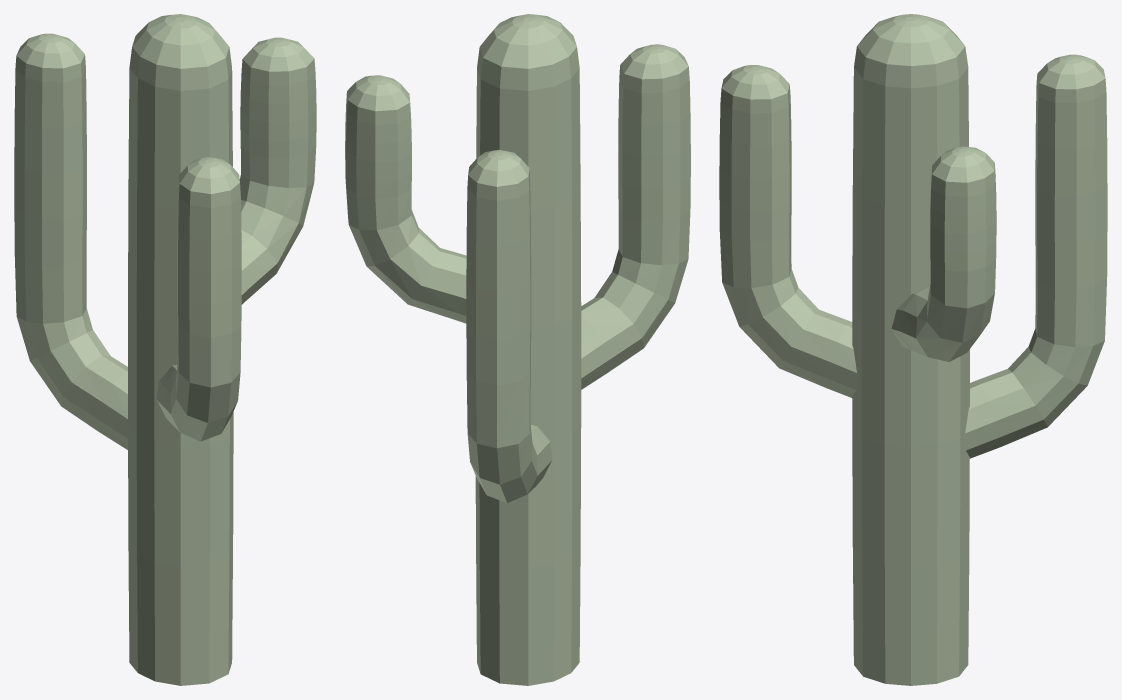
Rendered from SM_Desert_Saguaro_B.glb.
3 views of the same model, side by side, from view 1: azimuth 30°, elevation 25°; view 2: azimuth 150°, elevation 25°; view 3: azimuth 270°, elevation 25° (orthographic).
Parts seen in each view (by area): view 1: SM_Desert_Saguaro_B; view 2: SM_Desert_Saguaro_B; view 3: SM_Desert_Saguaro_B.
Boxes of the visible parts, bbox=[...] form: SM_Desert_Saguaro_B: bbox=[14, 14, 316, 685]; SM_Desert_Saguaro_B: bbox=[345, 14, 690, 685]; SM_Desert_Saguaro_B: bbox=[719, 14, 1107, 685].
Size of the model in its own units: 1.07 by 2.8 by 1.52.
